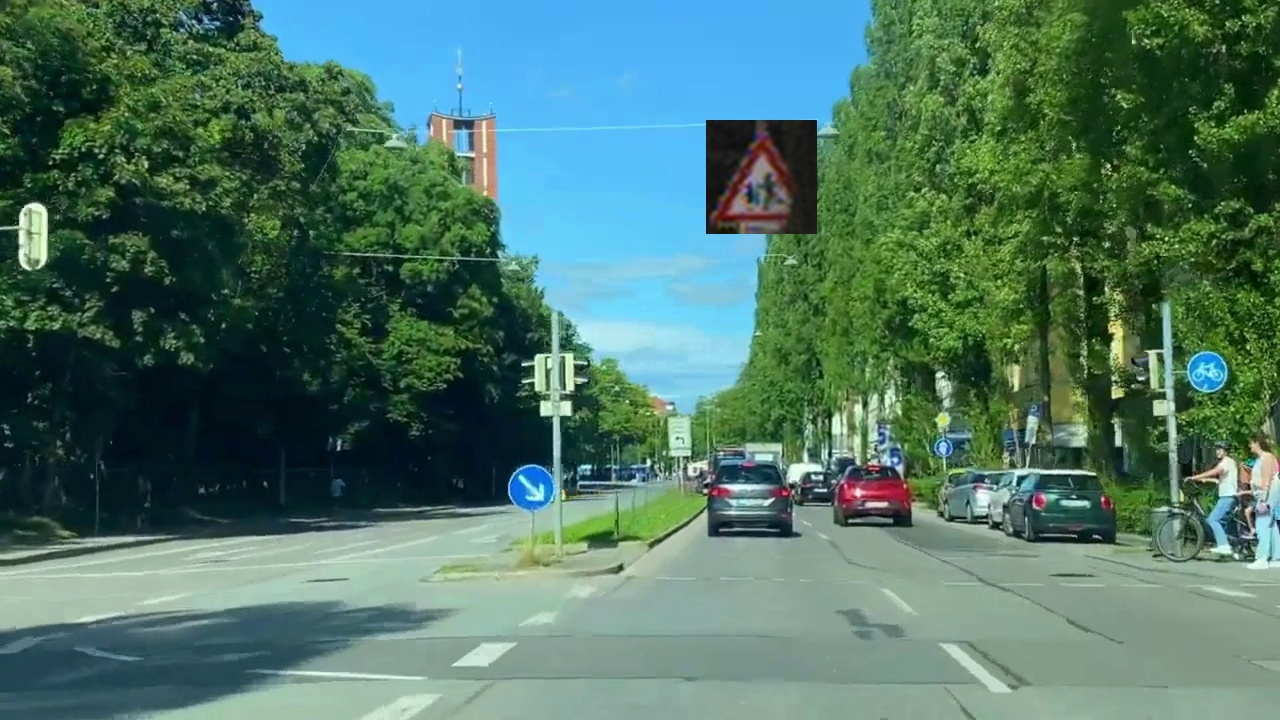Children: (706, 120, 817, 234)
